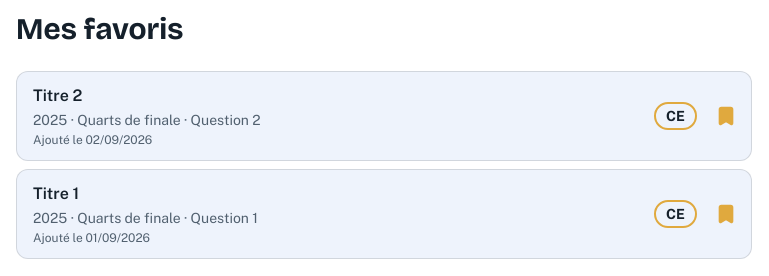
Test case: Mes favoris (Story 4.3) › unbookmarking a row removes it right away
Click the button named "Retirer des favoris" in the row of "Titre 2" at (726, 116), box [709,99,743,133]
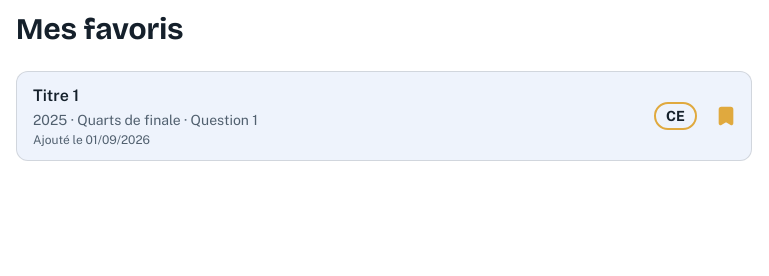
Now the number of list items is 1, box [16,71,752,161]
